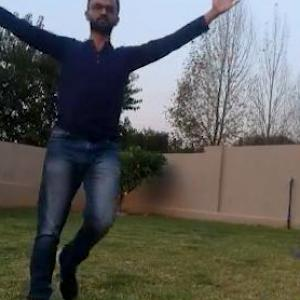takeoff: (0, 2, 225, 299)
